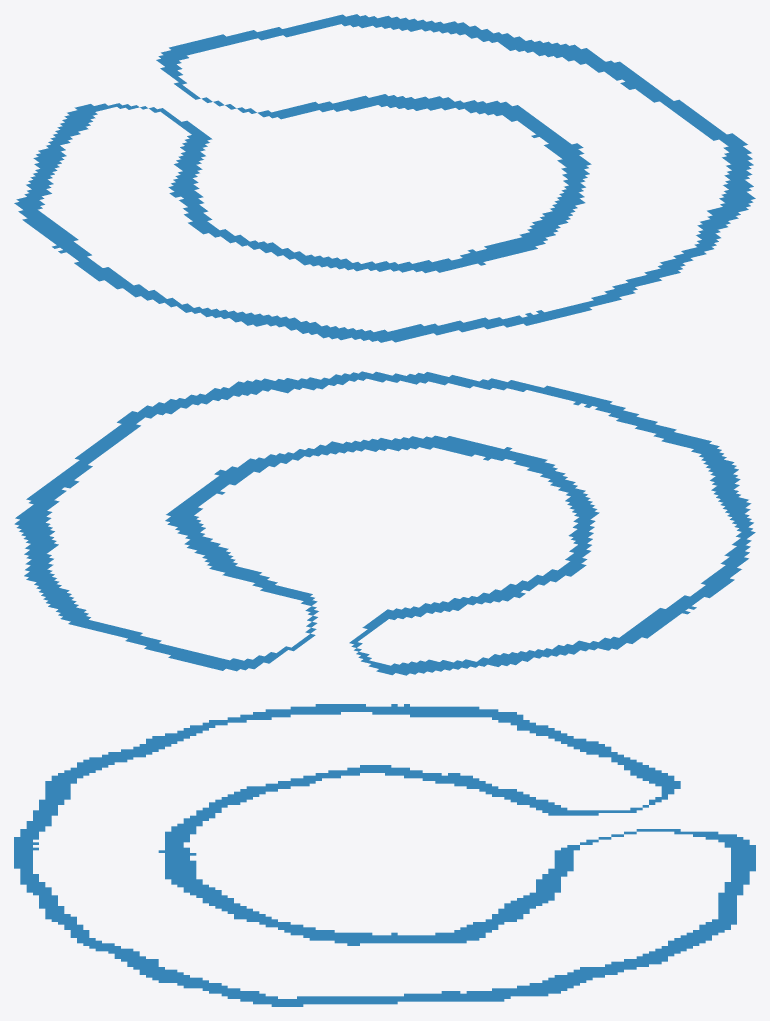
File: Isl-atoll4-PlaceForWaterObjects.fbx
3 views of the same model, one above another, from view 1: azimuth 30°, elevation 25°; view 2: azimuth 150°, elevation 25°; view 3: azimuth 270°, elevation 25° (orthographic).
Visible parts, largest first — view 1: Isl-atoll4-PlaceForWaterObjects; view 2: Isl-atoll4-PlaceForWaterObjects; view 3: Isl-atoll4-PlaceForWaterObjects.
Part boxes in pixels (x1,y1,x2,y2): Isl-atoll4-PlaceForWaterObjects: [14, 14, 755, 342]; Isl-atoll4-PlaceForWaterObjects: [14, 371, 755, 675]; Isl-atoll4-PlaceForWaterObjects: [14, 704, 755, 1006].
Bounding box in the file's own units: 114 × 0 × 118.
